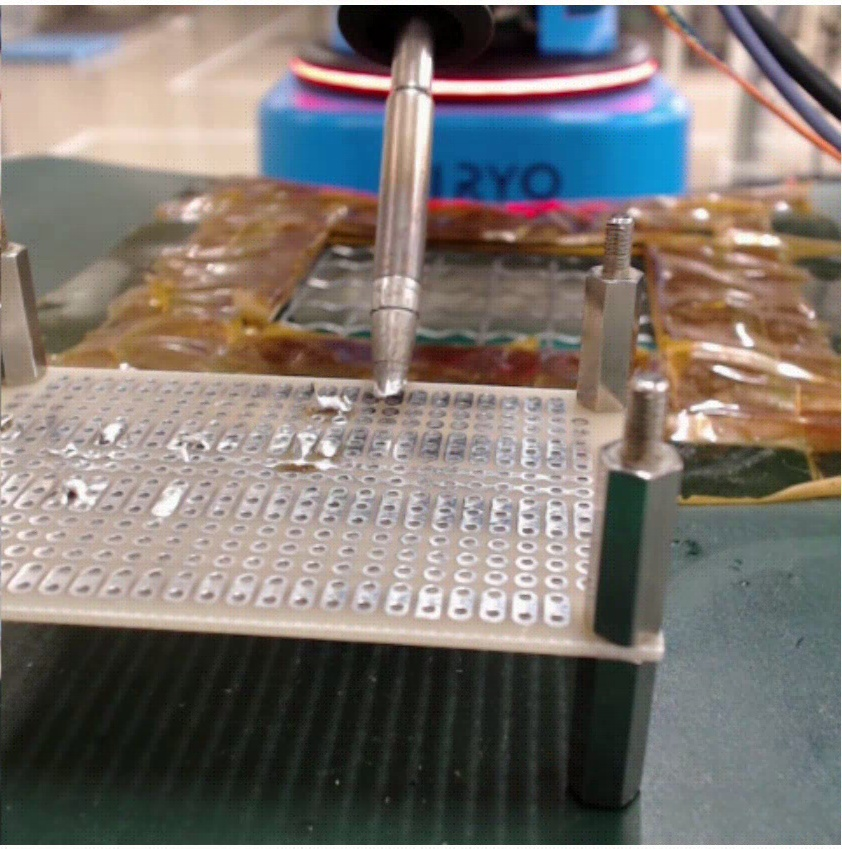soldering_iron: (370, 16, 435, 400)
